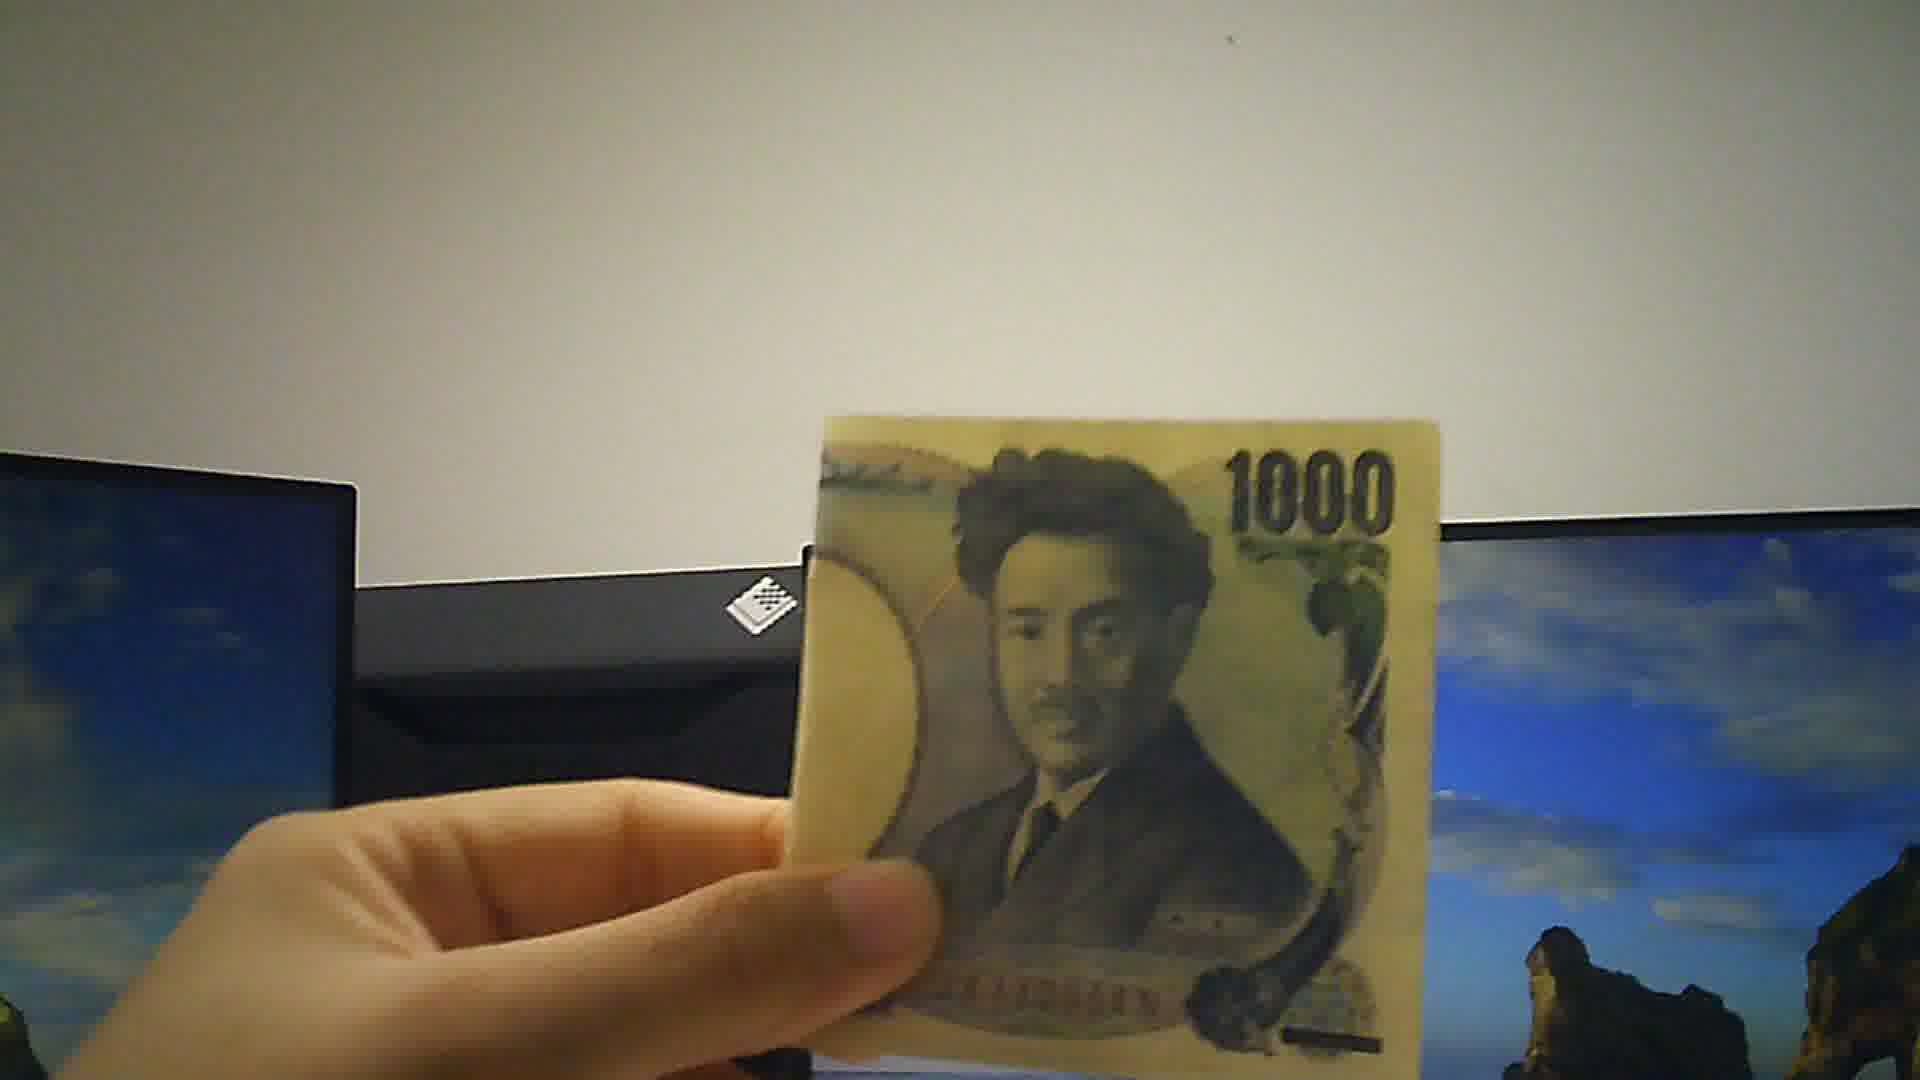1,000 Yen: (800, 402, 1425, 1072)
